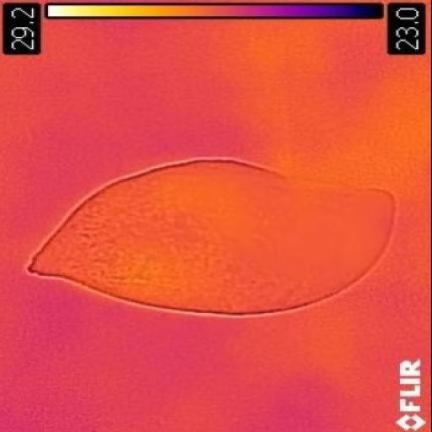mango: (31, 160, 394, 314)
